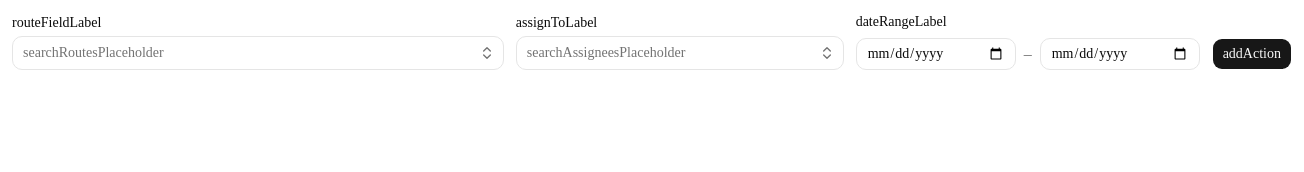
Scenario: AssignForm › won't submit until a route, an assignee and a date range are all chosen
Click the button "addAction". click: x=1252, y=54
box: [1212,38,1292,70]
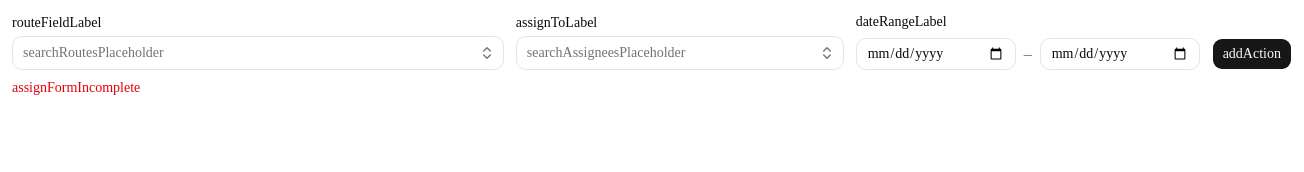
Expected: the text "assignFormIncomplete" is shown, [12,80,140,95]
